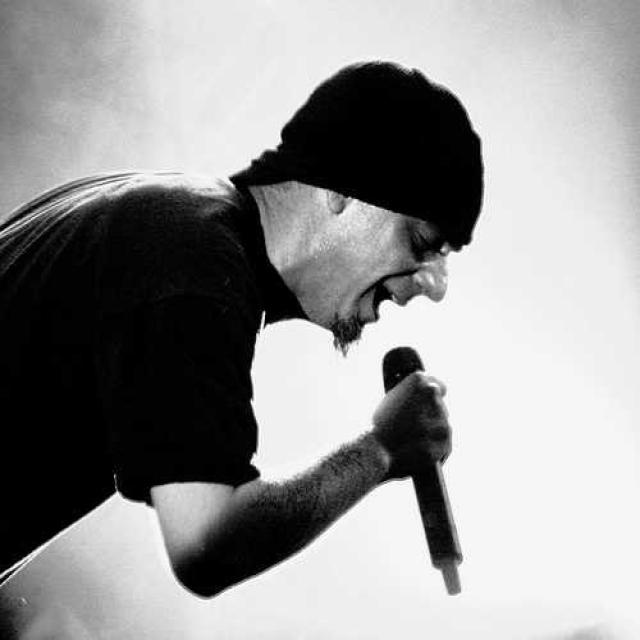microphone: (382, 342, 467, 592)
